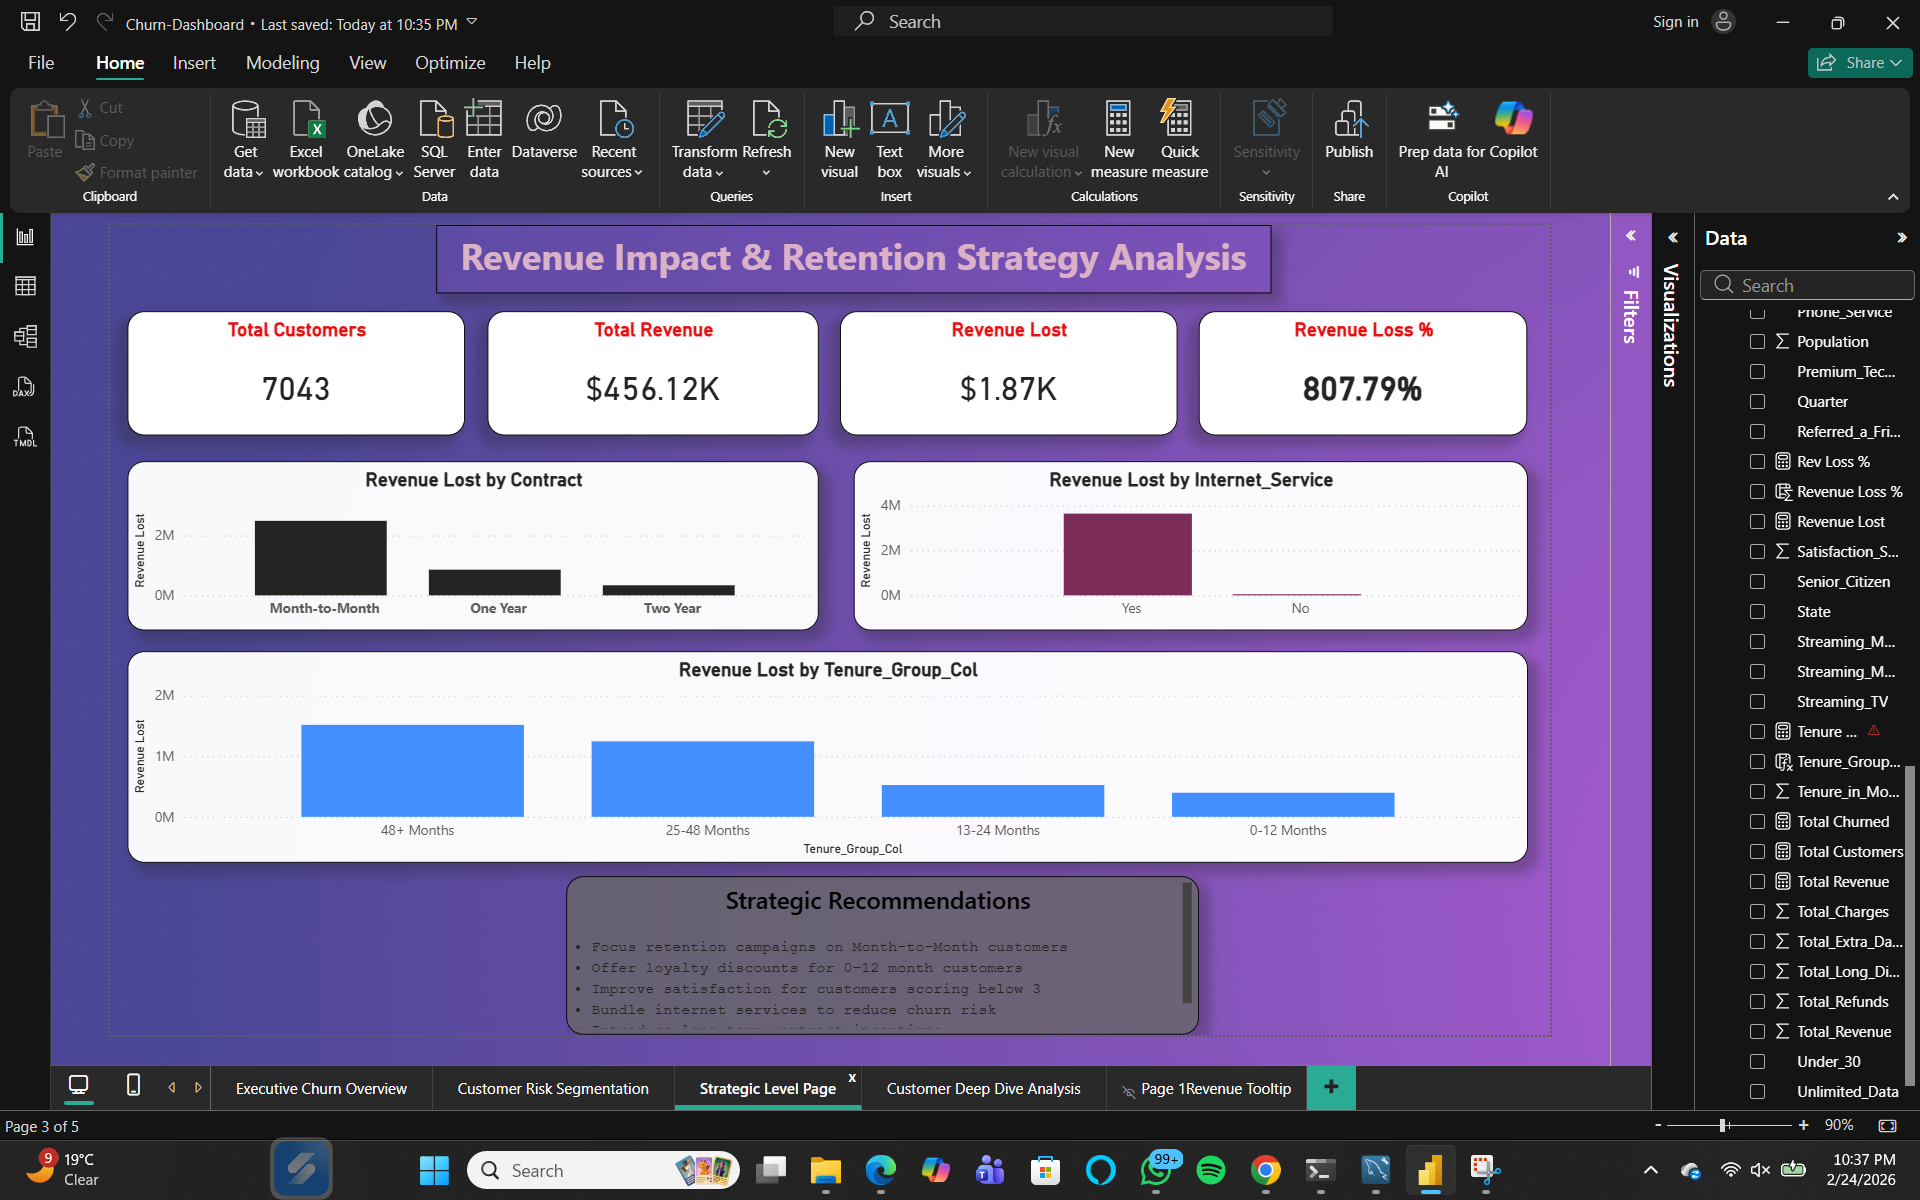

What the dashboard file says about the page in this screenshot:
{"tool":"powerbi","page":{"name":"Strategic Level Page","canvas":[1280,720],"ordinal":2},"visuals":[{"type":"textbox","box":[290,0,742.2,61.1],"z":0},{"type":"card","title":"Total Customers","fields":{"Values":["churn_analysis.Total Customers"]},"box":[15.6,76.7,300,110],"z":1000},{"type":"card","title":"Revenue Lost","fields":{"Values":["CountNonNull(churn_analysis.Revenue Loss %)"]},"box":[648.9,76.7,300,110],"z":2000},{"type":"card","title":"Revenue Loss %","fields":{"Values":["churn_analysis.Rev Loss %"]},"box":[967.8,76.7,292.2,110],"z":3000},{"type":"card","title":"Total Revenue","fields":{"Values":["churn_analysis.Total Revenue"]},"box":[335.6,76.7,294.4,110],"z":4000},{"type":"clusteredColumnChart","fields":{"Category":["churn_analysis.Contract"],"Y":["churn_analysis.Revenue Lost"]},"box":[15.6,210,614.4,150],"z":5000},{"type":"clusteredColumnChart","fields":{"Category":["churn_analysis.Internet_Service"],"Y":["churn_analysis.Revenue Lost"]},"box":[661.1,210,598.9,150],"z":6000},{"type":"clusteredColumnChart","fields":{"Category":["churn_analysis.Tenure_Group_Col"],"Y":["churn_analysis.Revenue Lost"]},"box":[15.6,378.9,1244.4,187.8],"z":7000},{"type":"textbox","box":[405.6,578.9,562.2,141.1],"z":8000}]}

Visuals, with their boxes on the page's 1280x720 design canvas (x1, y1, x2, y2). These are canvas units, not pixel positions in the 1920x1200 screenshot, which may show the page scaled, cropped or inside an application window:
textbox: box=[290, 0, 1032, 61]
"Total Customers" card: box=[16, 77, 316, 187]
"Revenue Lost" card: box=[649, 77, 949, 187]
"Revenue Loss %" card: box=[968, 77, 1260, 187]
"Total Revenue" card: box=[336, 77, 630, 187]
clusteredColumnChart - churn_analysis.Contract x churn_analysis.Revenue Lost: box=[16, 210, 630, 360]
clusteredColumnChart - churn_analysis.Internet_Service x churn_analysis.Revenue Lost: box=[661, 210, 1260, 360]
clusteredColumnChart - churn_analysis.Tenure_Group_Col x churn_analysis.Revenue Lost: box=[16, 379, 1260, 567]
textbox: box=[406, 579, 968, 720]
